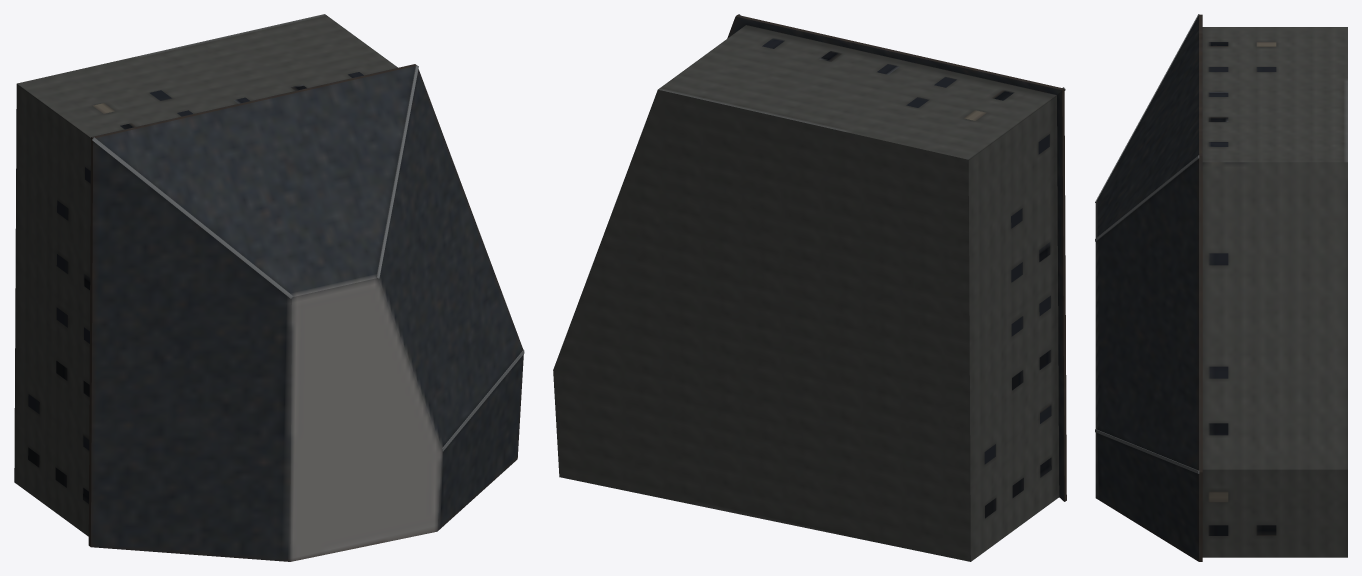
Rendered from house_b0056.obj.
3 renders of one model, left to right at view 1: azimuth 30°, elevation 25°; view 2: azimuth 150°, elevation 25°; view 3: azimuth 270°, elevation 25°, orthographic. The views are drawn at different scales.
Visible parts, largest first — view 1: house_b0056; view 2: house_b0056; view 3: house_b0056.
Boxes of the visible parts, <box> form: house_b0056: <box>14,14,524,561</box>; house_b0056: <box>553,14,1066,561</box>; house_b0056: <box>1095,14,1347,561</box>.
Size of the model in its own units: 27.3 by 25.6 by 15.9.
1 material, 1 textured.
